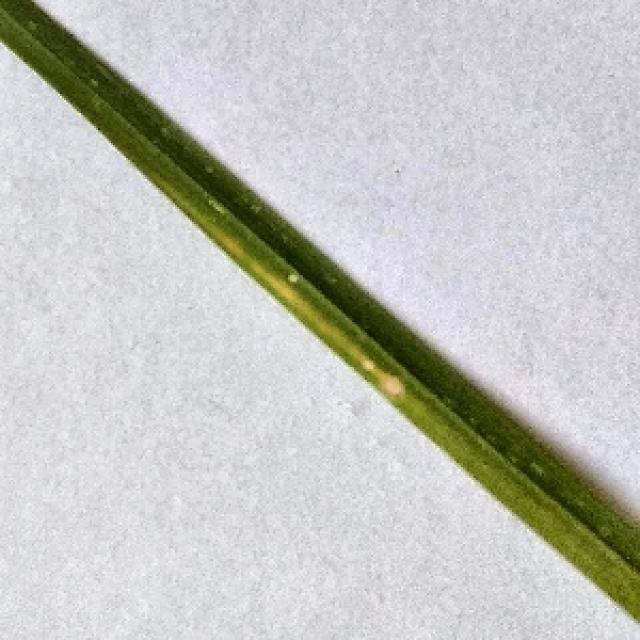Leaf_Blast: (209, 230, 416, 406)
